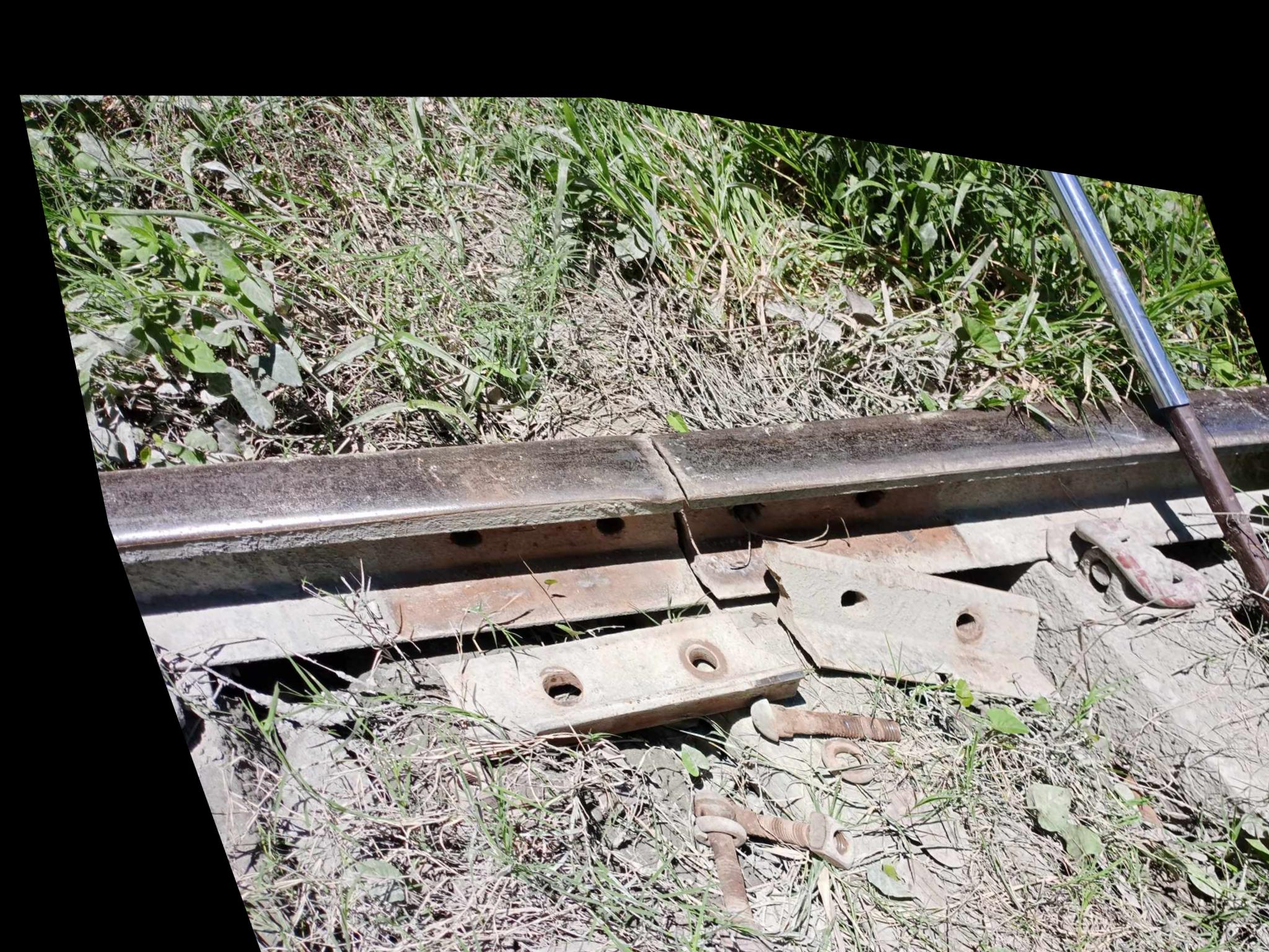person: (564, 370, 735, 528)
